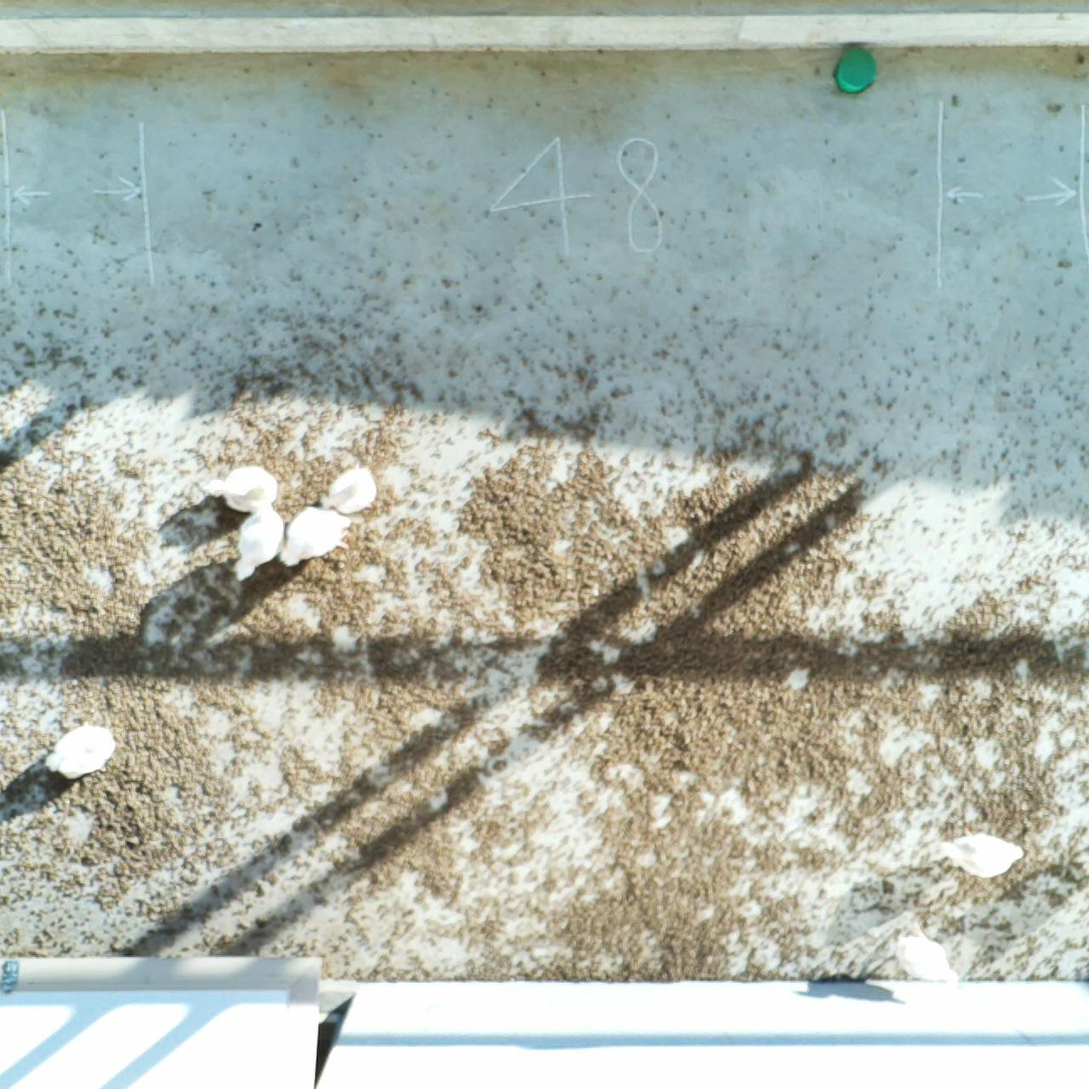chicken: (278, 502, 356, 570), (42, 718, 121, 784), (889, 925, 965, 990), (941, 828, 1029, 882), (230, 504, 285, 584), (203, 464, 282, 518), (317, 463, 381, 518)
